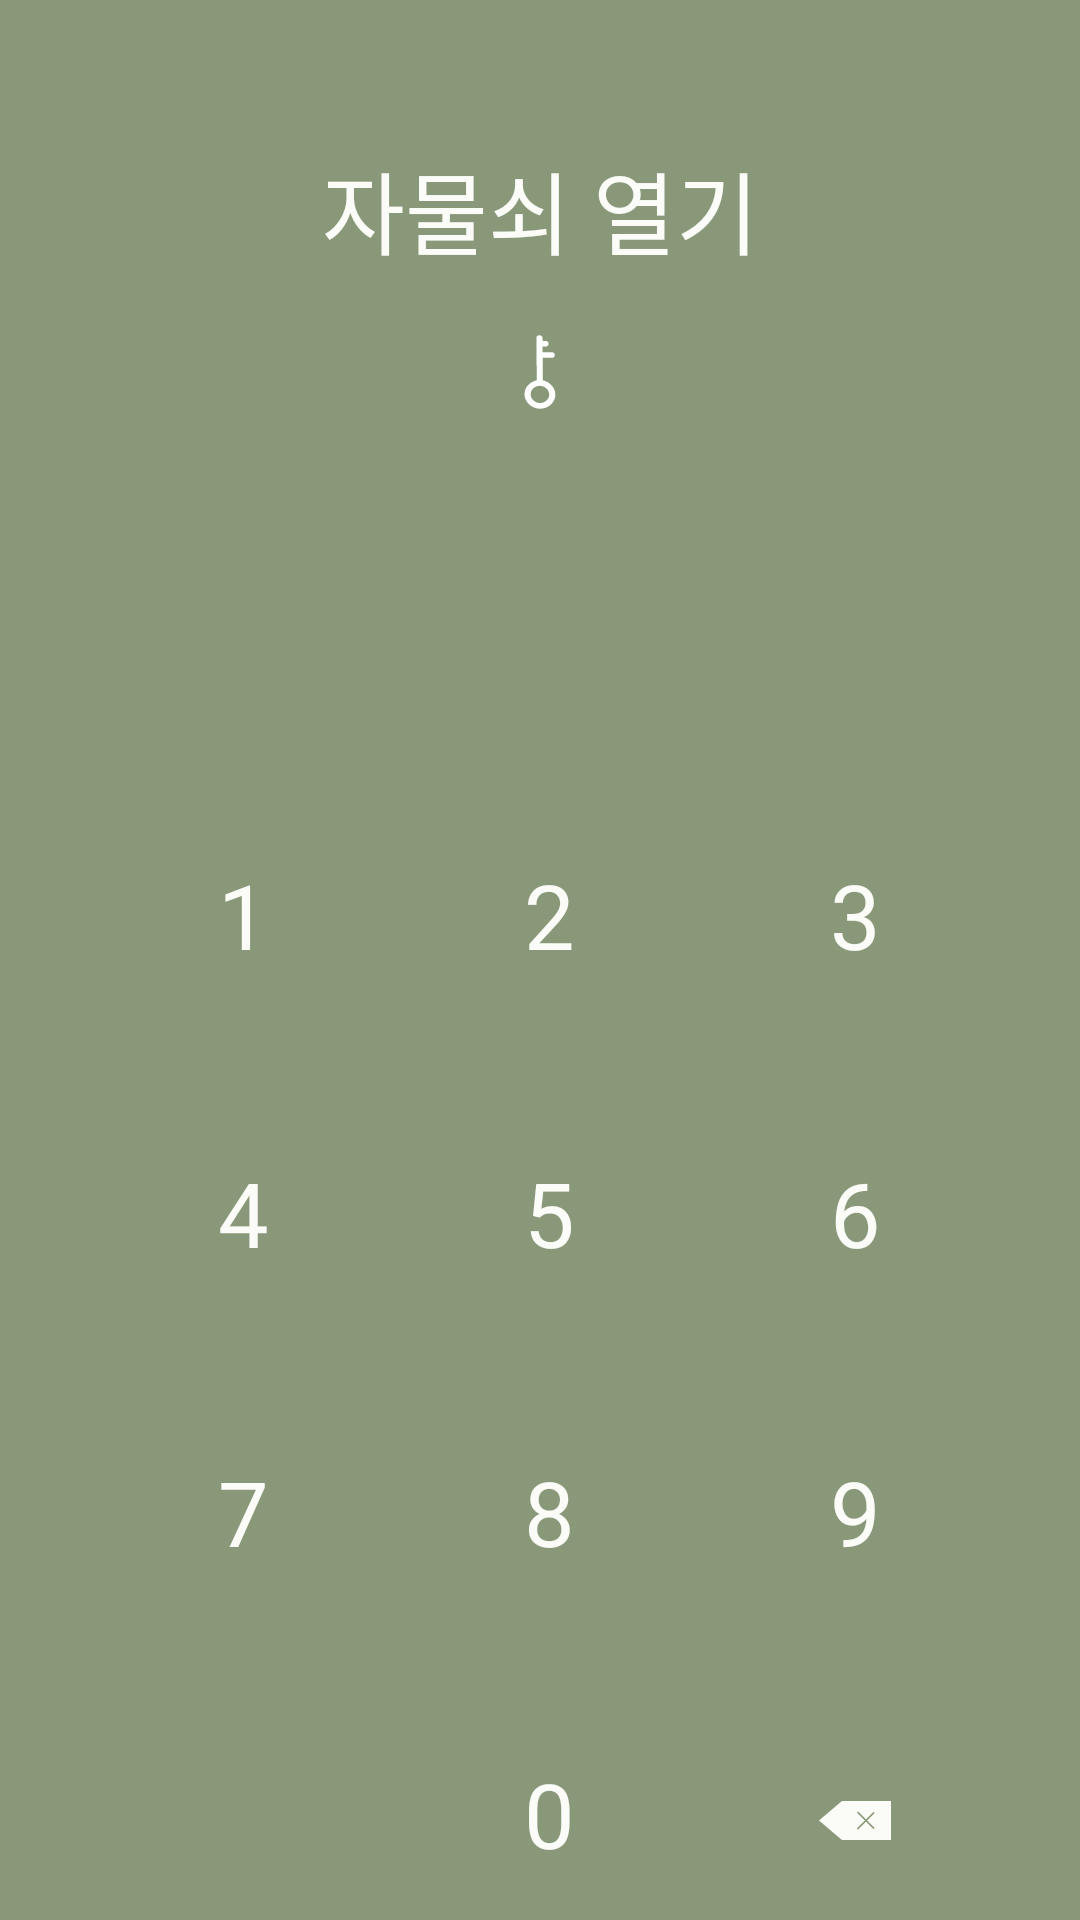

Named icons in this screenshot (1080*1920) and their bounding boxes, box=[x1, y1, x2, y2]:
key: box=[524, 335, 556, 409]
